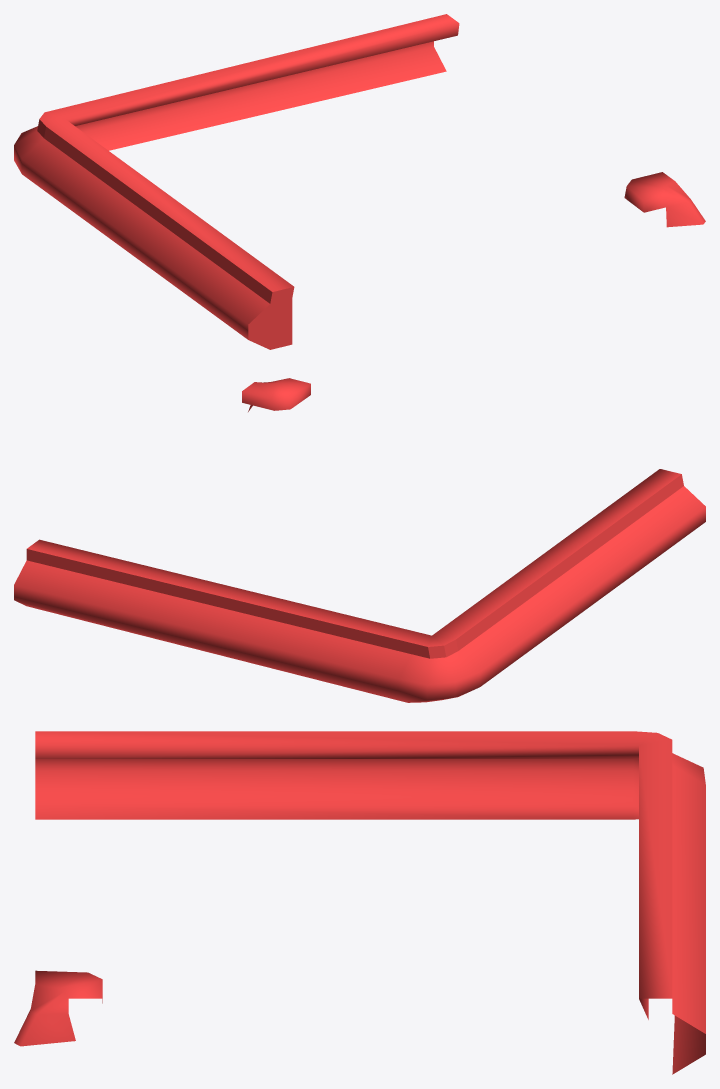
Rendered from Cinta_Esquina_Barras.FBX.
3 renders of one model, top to bottom at view 1: azimuth 30°, elevation 25°; view 2: azimuth 150°, elevation 25°; view 3: azimuth 270°, elevation 25°, orthographic. The views are drawn at different scales.
Visible parts, largest first — view 1: Cinta_Esquina_Barras; view 2: Cinta_Esquina_Barras; view 3: Cinta_Esquina_Barras.
Boxes of the visible parts, x1,y1,x2,y2 form: Cinta_Esquina_Barras: (14,14,705,349); Cinta_Esquina_Barras: (14,378,705,702); Cinta_Esquina_Barras: (14,731,705,1074).
Bounding box in the file's own units: 103 × 12.5 × 103.
